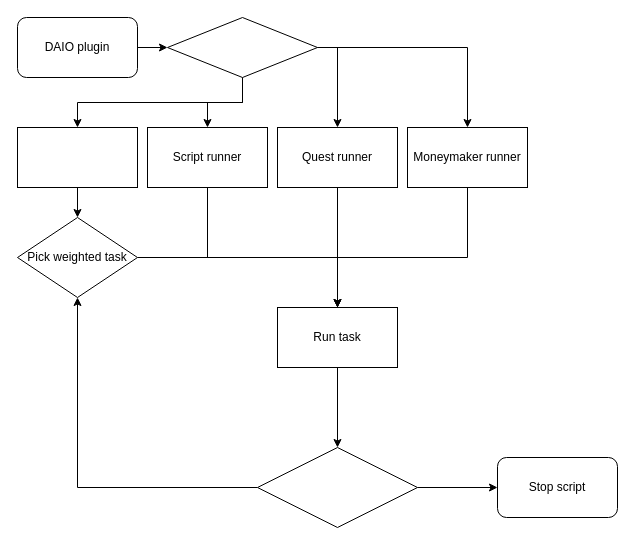
Image size: 635x545. Some labels were removed from this diagram. Each missing label, with the centre of its shape:
Check plugin config: (x=242, y=47)
DAIO runner: (x=77, y=157)
Script stopped: (x=337, y=487)
